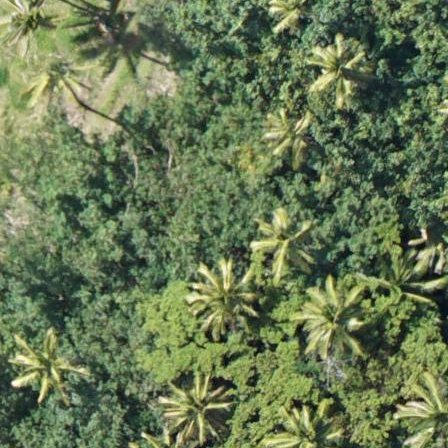palm_tree: (4, 327, 76, 403), (187, 263, 255, 334), (299, 284, 367, 354), (163, 377, 231, 443), (253, 213, 313, 275), (23, 53, 90, 107), (396, 381, 448, 448), (306, 40, 365, 99), (268, 407, 342, 448), (1, 1, 56, 50), (263, 110, 311, 159)
